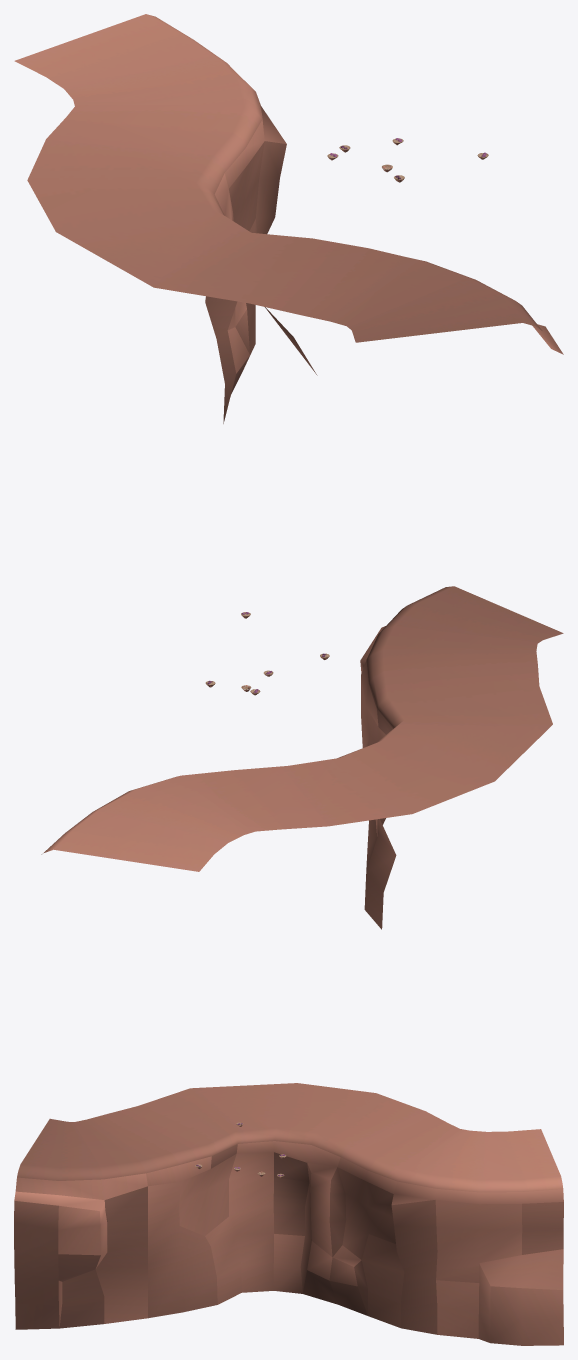
Rendered from RockIsland.gltf.
The picture shows the model from 3 angles, top to bottom: view 1: azimuth 30°, elevation 25°; view 2: azimuth 150°, elevation 25°; view 3: azimuth 270°, elevation 25°; orthographic projection. The views are drawn at different scales.
Visible parts, largest first — view 1: RockLandscape_background; view 2: RockLandscape_background; view 3: RockLandscape_background.
Part boxes in pixels (x1,y1,x2,y2): RockLandscape_background: [14, 14, 563, 423]; RockLandscape_background: [41, 586, 563, 929]; RockLandscape_background: [14, 1083, 563, 1345].
Bounding box in the file's own units: 1451 × 1129 × 2948.
1 material, 1 textured.
